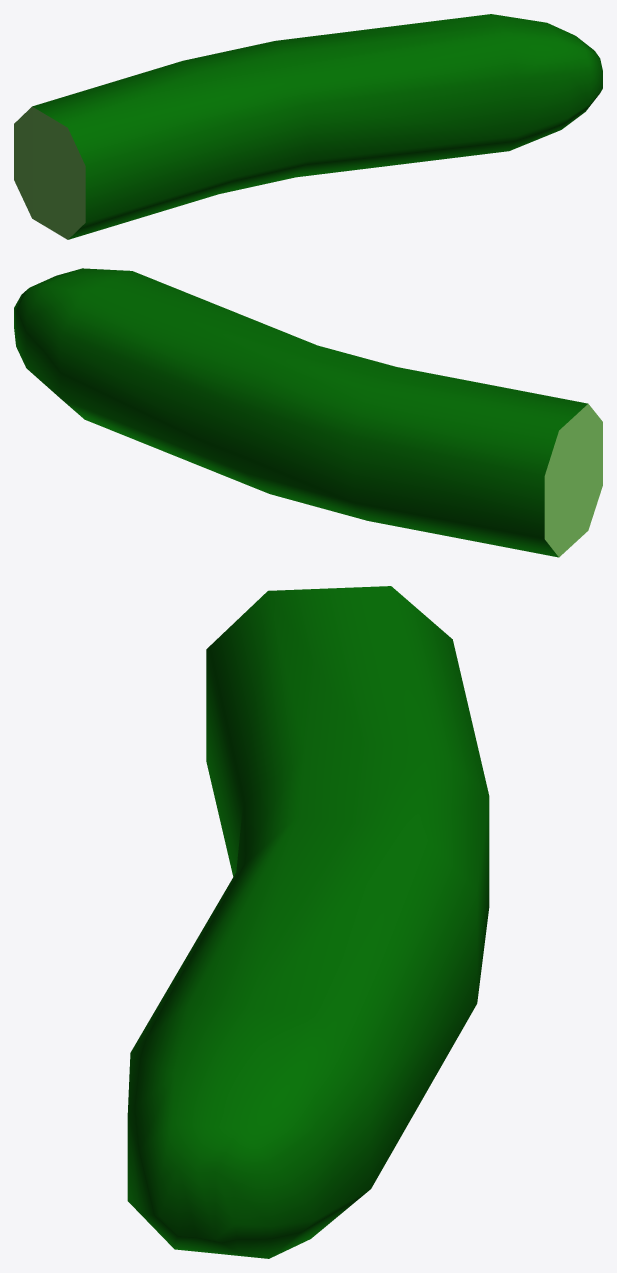
The model's file is mesh_Cucumber_Stage04.fbx.
3 views of the same model, one above another, from view 1: azimuth 30°, elevation 25°; view 2: azimuth 150°, elevation 25°; view 3: azimuth 270°, elevation 25° (orthographic). The views are drawn at different scales.
Parts seen in each view (by area): view 1: mesh_Cucumber_Stage04; view 2: mesh_Cucumber_Stage04; view 3: mesh_Cucumber_Stage04.
Boxes of the visible parts, x1=… form: mesh_Cucumber_Stage04: x1=14, y1=14, x2=602, y2=239; mesh_Cucumber_Stage04: x1=14, y1=268, x2=602, y2=557; mesh_Cucumber_Stage04: x1=127, y1=586, x2=489, y2=1258.
Size of the model in its own units: 0.179 by 0.0367 by 0.0535.
